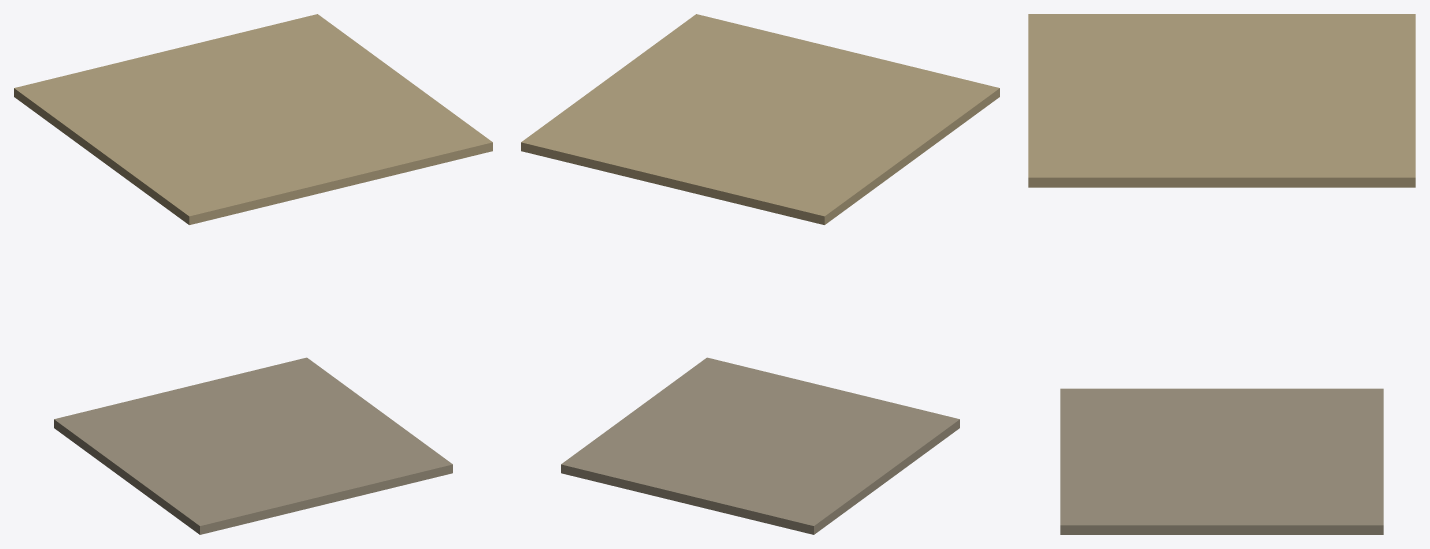
The model's file is room_shared_hall_cross.glb.
3 views of the same model, side by side, from view 1: azimuth 30°, elevation 25°; view 2: azimuth 150°, elevation 25°; view 3: azimuth 270°, elevation 25° (orthographic). The views are drawn at different scales.
Visible parts, largest first — view 1: room_shared_hall_cross; view 2: room_shared_hall_cross; view 3: room_shared_hall_cross.
Boxes of the visible parts, x1,y1,x2,y2 form: room_shared_hall_cross: (14,14,492,534); room_shared_hall_cross: (521,14,999,534); room_shared_hall_cross: (1028,14,1415,534).
Size of the model in its own units: 3.6 by 3.8 by 3.6.
1 material, 1 textured.
